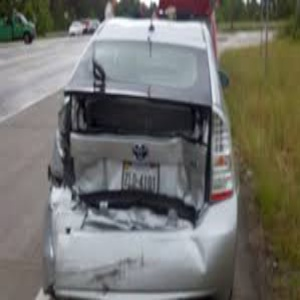bumper_scratch: (49, 249, 164, 297)
